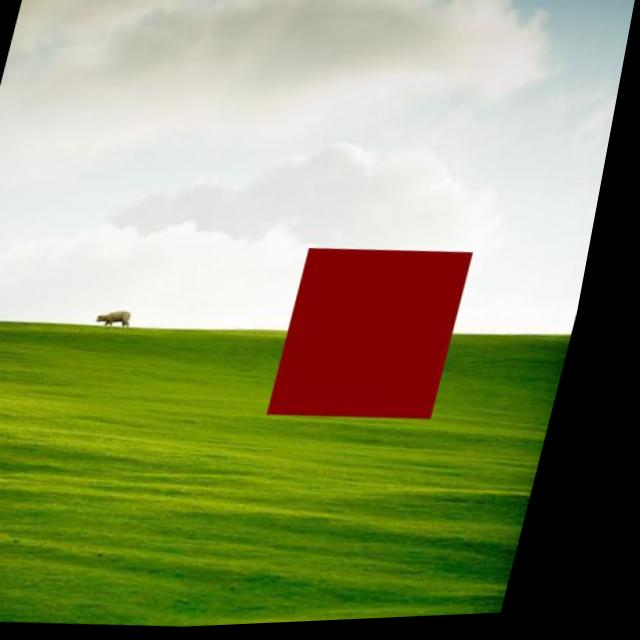RedSquare: (277, 241, 492, 431)
